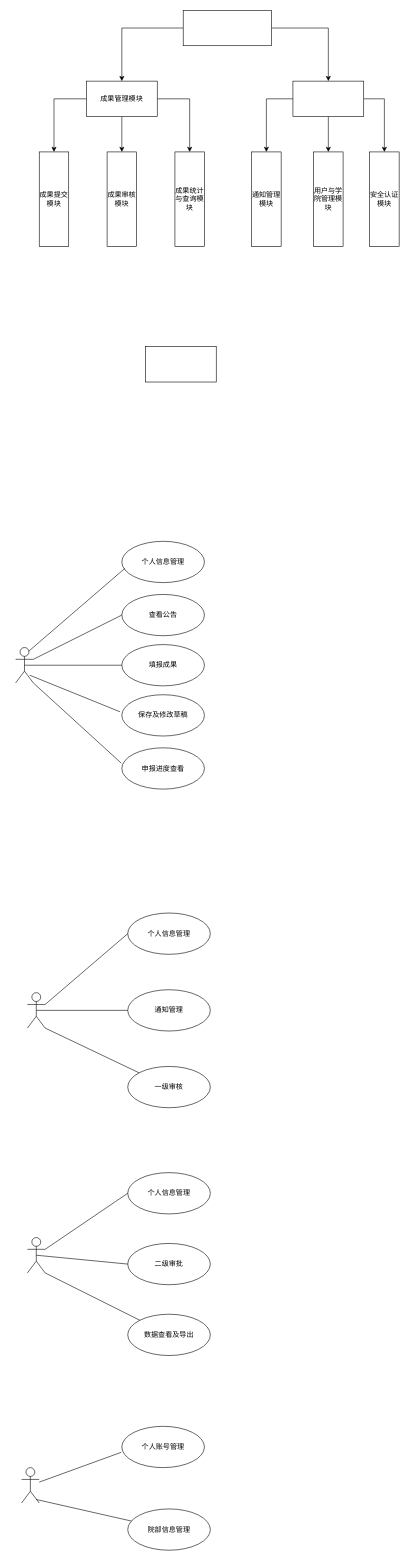
This 409x1561 diagram has some shape labels left out. Each missing label, with the centre of its shape:
"信息与安全管理模块" belongs at point 328,99.
"教师用户" belongs at point 24,665.
"秘书" belongs at point 36,1010.
"系统管理员" belongs at point 30,1485.
"院长" belongs at point 36,1255.
"高校科研信息管理系统" belongs at point 227,28.
